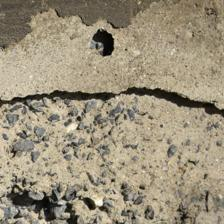Crack: (74, 53, 152, 154), (0, 12, 151, 45), (133, 7, 162, 59)
